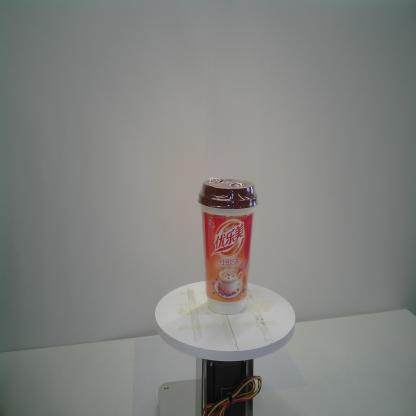Instant Drink: (196, 175, 260, 316)
